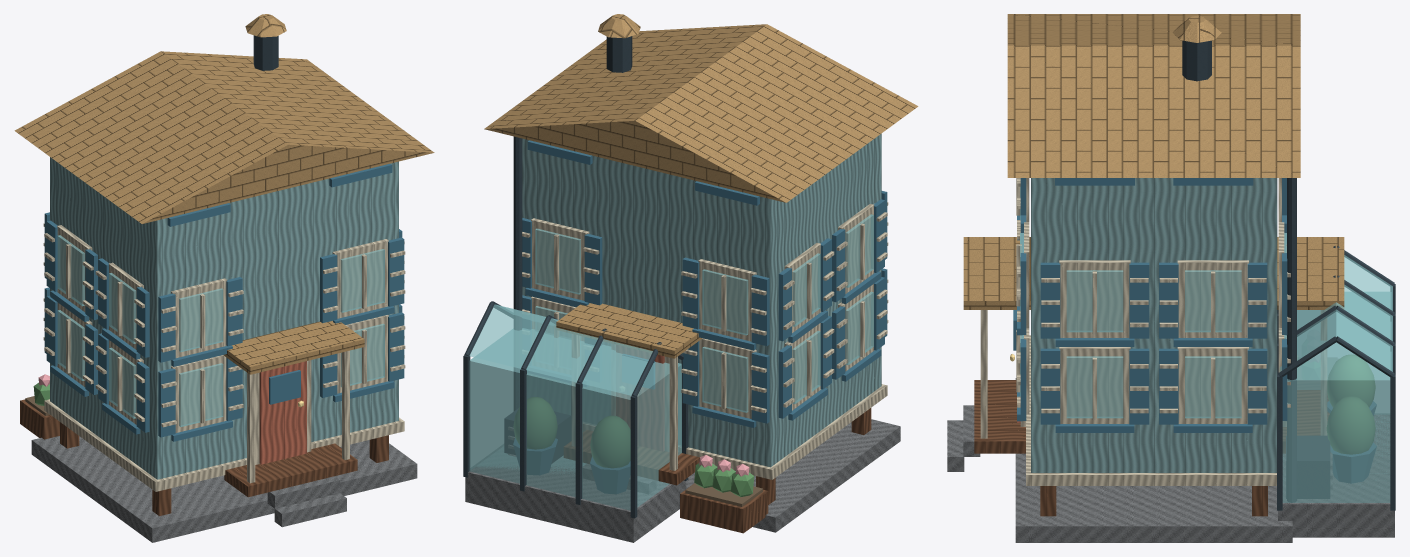
The model's file is house_beach_lv3_greenhouse.glb.
3 renders of one model, left to right at view 1: azimuth 30°, elevation 25°; view 2: azimuth 150°, elevation 25°; view 3: azimuth 270°, elevation 25°, orthographic. The views are drawn at different scales.
Parts seen in each view (by area): view 1: gable_roof, walls, foundation, front_porch_canopy, front_door, floor_trim, front_deck, front_window_frame.002, front_window_frame, front_window_frame.003, front_window_glass, front_window_glass.002 (+40 smaller); view 2: gable_roof, walls, greenhouse_glazing, greenhouse_plinth, greenhouse_roof, foundation, back_porch_canopy, back_window_frame.002, back_window_frame.003, back_window_frame, back_door, floor_trim (+47 smaller); view 3: gable_roof, walls, greenhouse_glazing, foundation, greenhouse_plinth, greenhouse_roof, right_window_frame.002, right_window_frame.003, right_window_frame, right_window_frame.001, front_porch_canopy, floor_trim (+36 smaller).
Boxes of the visible parts, box(x1,y1,x2,y2) form: gable_roof: box(14, 51, 434, 223); walls: box(50, 157, 398, 479); foundation: box(31, 436, 417, 542); front_porch_canopy: box(223, 321, 364, 374); front_door: box(259, 361, 306, 464); floor_trim: box(44, 399, 404, 491); front_deck: box(224, 443, 357, 497); front_window_frame.002: box(171, 278, 227, 357); front_window_frame: box(171, 355, 226, 432); front_window_frame.003: box(332, 239, 388, 318); front_window_glass: box(179, 363, 223, 426); front_window_glass.002: box(179, 288, 223, 352); gable_roof: box(484, 24, 918, 202); walls: box(522, 133, 881, 467); greenhouse_glazing: box(469, 328, 681, 510); greenhouse_plinth: box(465, 464, 686, 542); greenhouse_roof: box(469, 304, 652, 395); foundation: box(679, 419, 900, 532); back_porch_canopy: box(556, 303, 702, 358); back_window_frame.002: box(698, 259, 756, 341); back_window_frame.003: box(531, 218, 589, 300); back_window_frame: box(699, 338, 756, 418); back_door: box(616, 345, 664, 451); floor_trim: box(583, 384, 887, 479); gable_roof: box(1007, 14, 1300, 177); walls: box(1031, 178, 1277, 472); greenhouse_glazing: box(1282, 292, 1390, 502); foundation: box(1015, 378, 1292, 542); greenhouse_plinth: box(1278, 414, 1394, 537); greenhouse_roof: box(1279, 255, 1392, 371); right_window_frame.002: box(1059, 260, 1130, 337); right_window_frame.003: box(1177, 260, 1248, 337); right_window_frame: box(1059, 347, 1130, 423); right_window_frame.001: box(1177, 347, 1248, 423); front_porch_canopy: box(963, 237, 1030, 309); floor_trim: box(1026, 335, 1276, 485).
Size of the model in its own units: 3.15 by 4.33 by 3.64.
13 materials, 7 textured.
